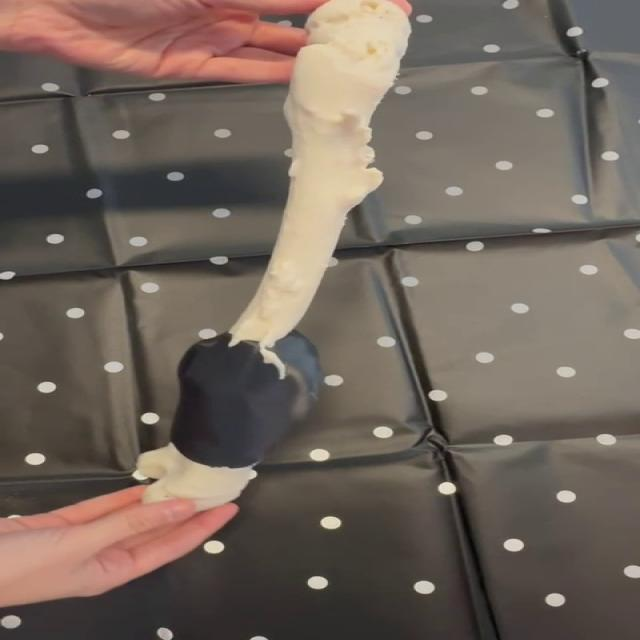bones: (139, 0, 410, 510)
